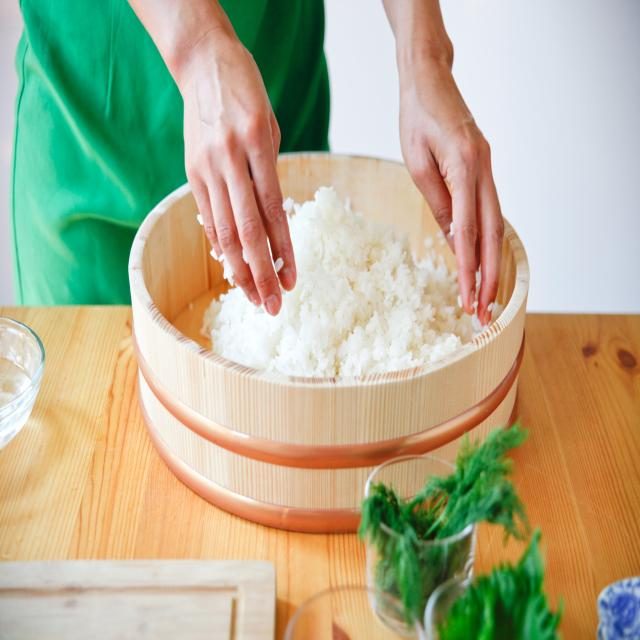rice: (294, 191, 448, 369)
